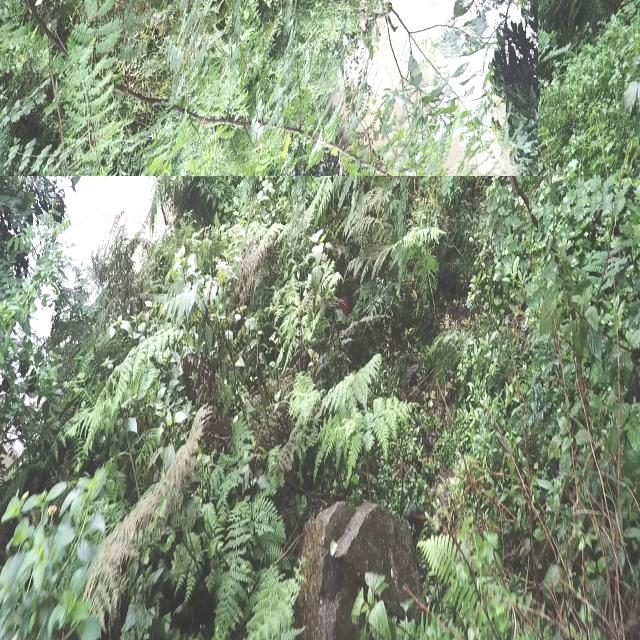Mysore-Thorn-Weed: (0, 0, 538, 176), (499, 188, 635, 420)
